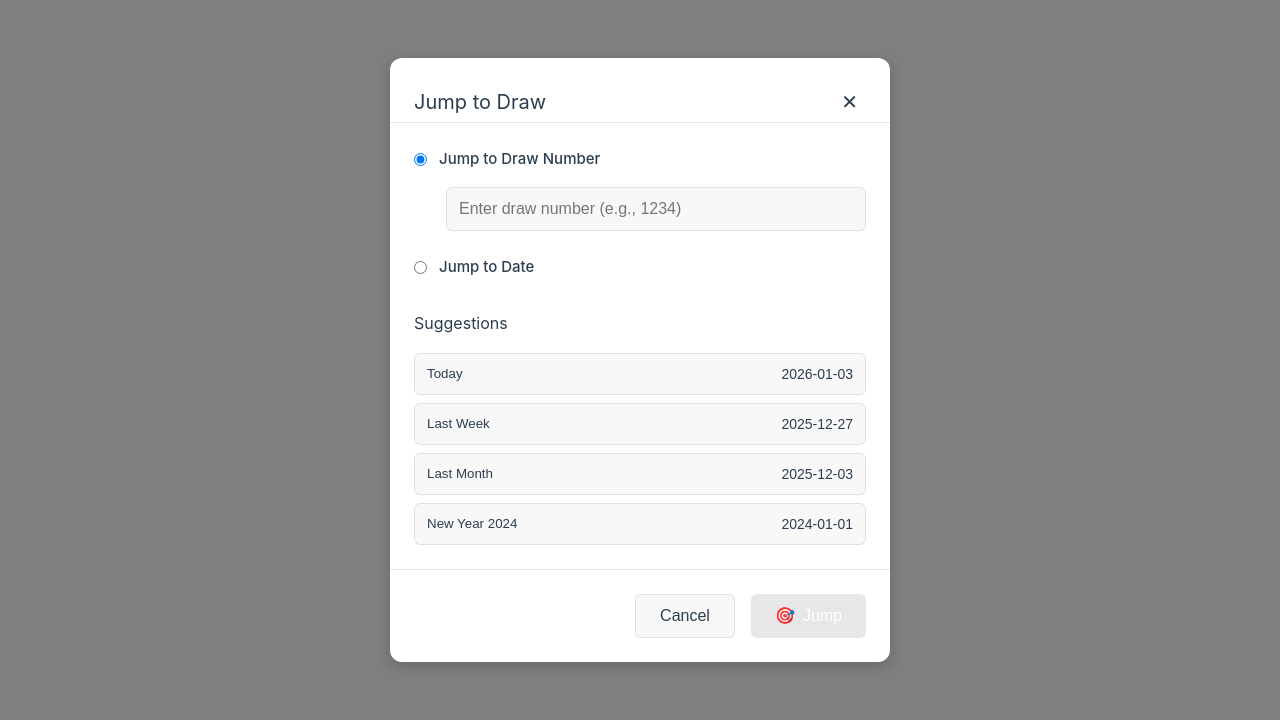
JumpToDrawDialog › disables jump button when input is invalid
The width and height of the screenshot is (1280, 720).
Check: the button with class "jump-button" is disabled, box [751, 594, 866, 638]
Note: Should be enabled with valid input
Type "1234" into the number field with class "number-input".
click(656, 209); type("1234")  # box [446, 187, 866, 231]
(page scrolled)
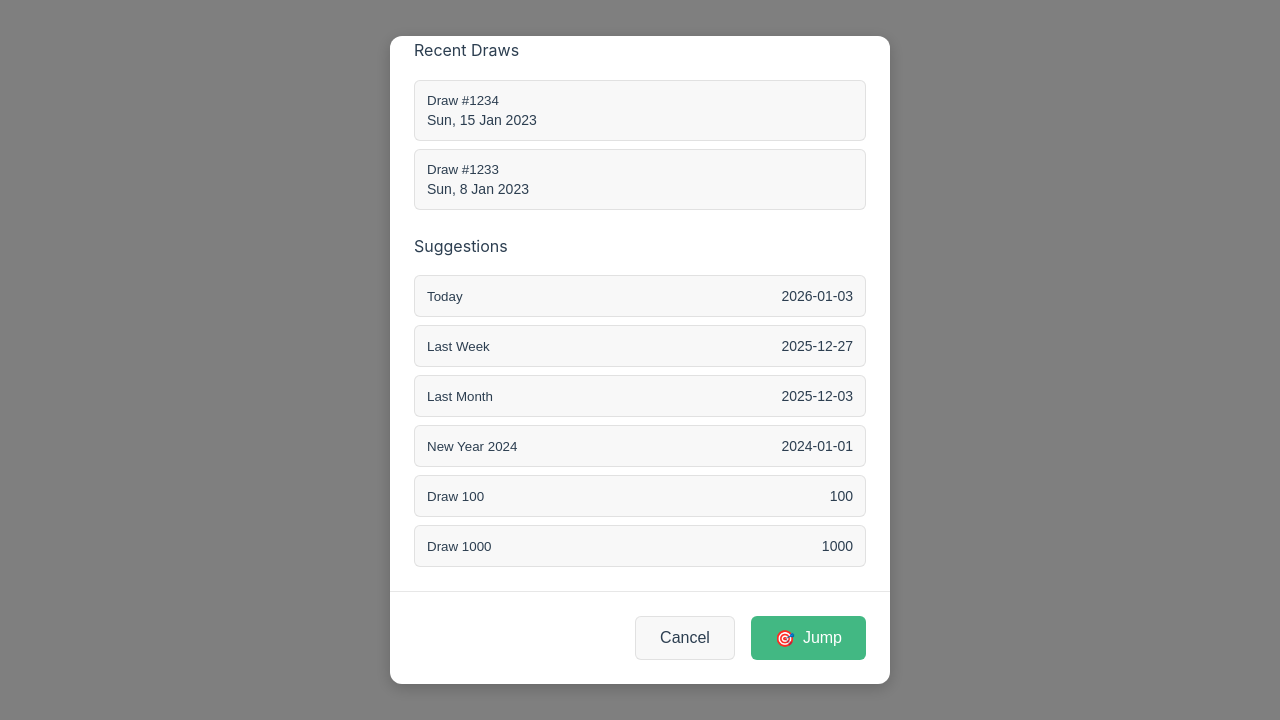
Check: the button with class "jump-button" is enabled, box [751, 616, 866, 660]
